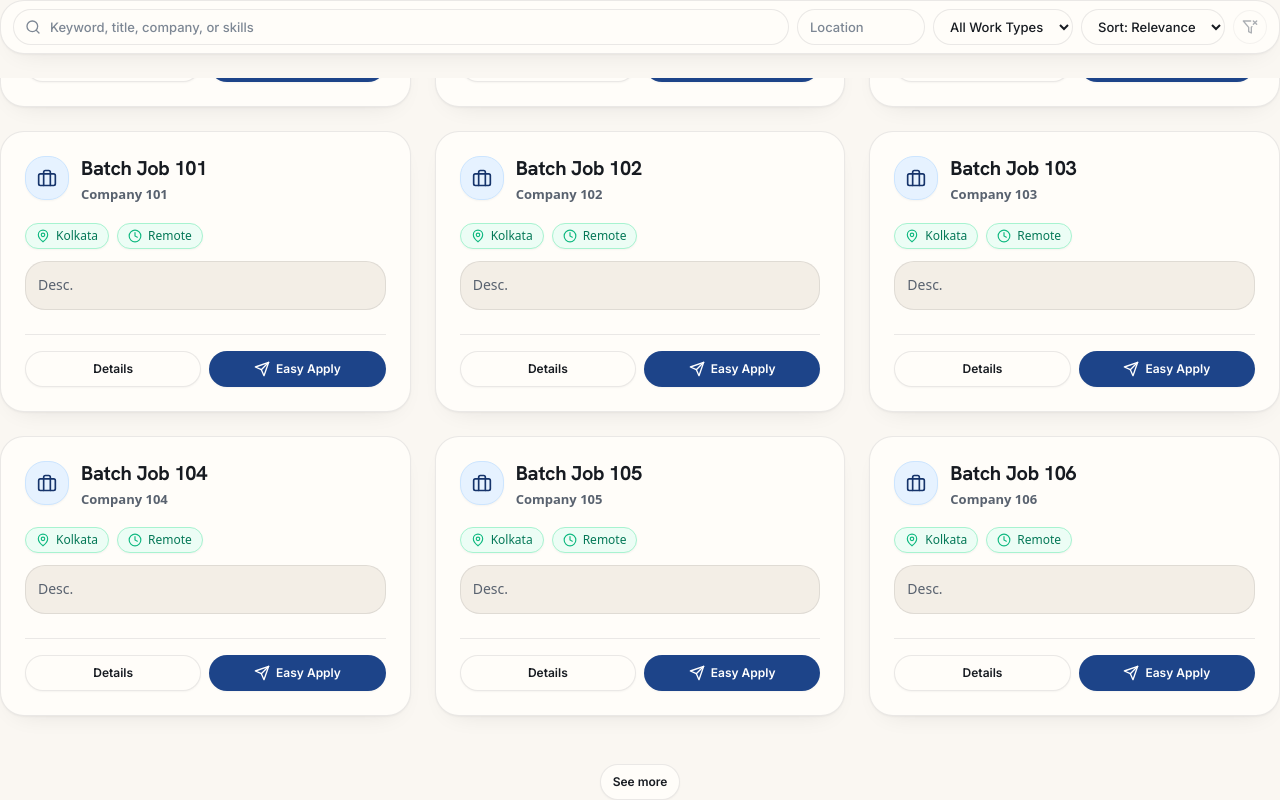
Test case: JobsPage — job listing & application contract › batches the combined recommended + more_matches list in groups of 21 behind See more
(page scrolled)
Expected: the heading "Batch Job 106" is shown, [950,460,1076,486]
Expected: the text "Batch Job 107" is not shown
Click the button "See more" at (640, 782), box [600,764,680,799]
(page scrolled)
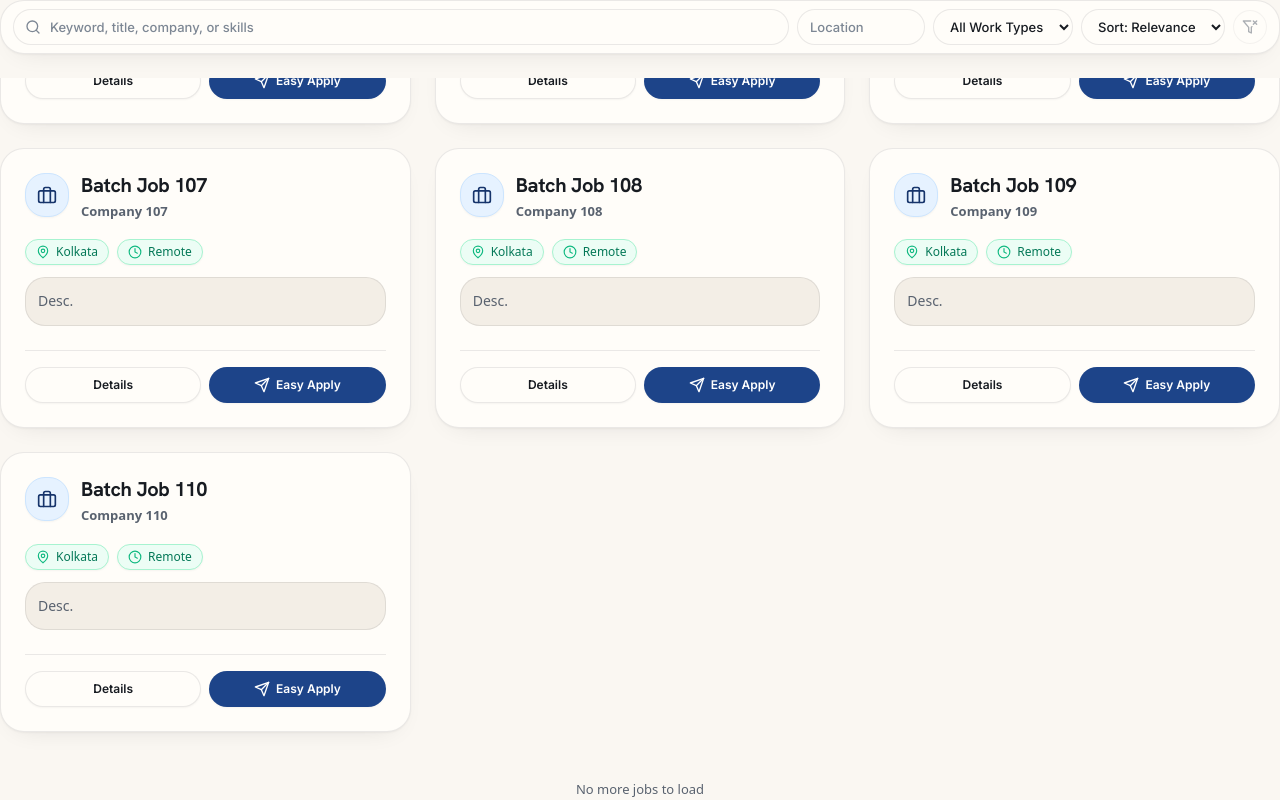
Result: the heading "Batch Job 110" is shown at [81,476,207,502]
Result: the button "See more" is gone
